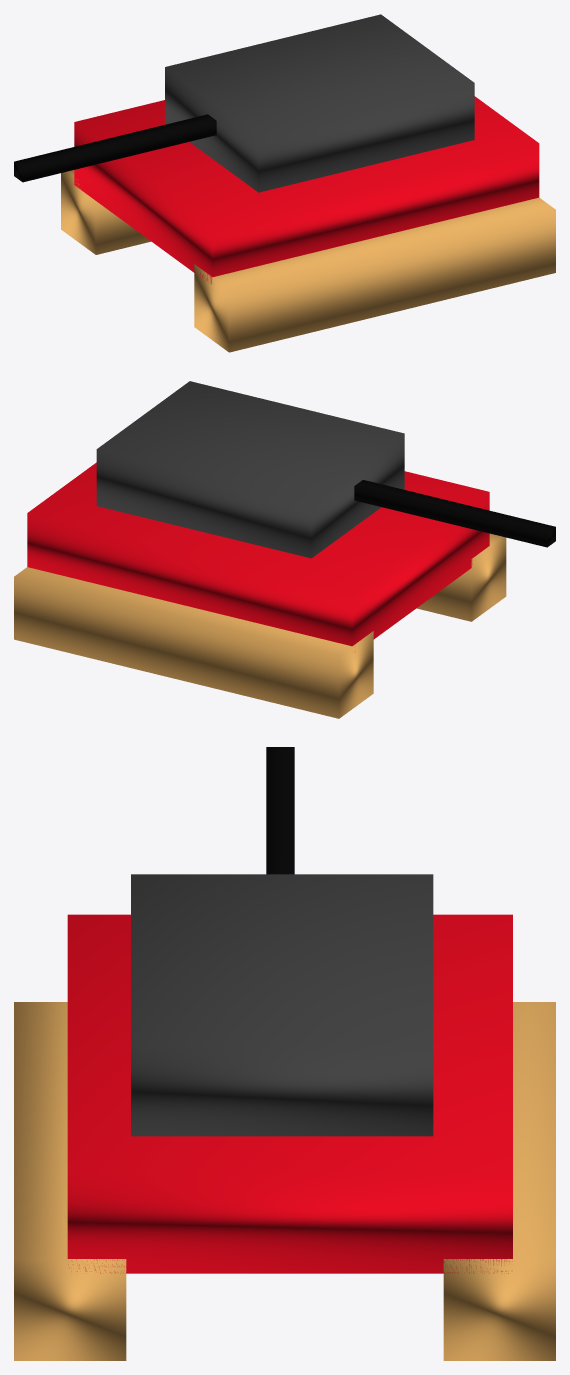
Rendered from redbigtank.glb.
3 views of the same model, one above another, from view 1: azimuth 30°, elevation 25°; view 2: azimuth 150°, elevation 25°; view 3: azimuth 270°, elevation 25° (orthographic). The views are drawn at different scales.
Visible parts, largest first — view 1: Cube.002, Cube.003, Cube, Cube.004, Cube.001; view 2: Cube.002, Cube.003, Cube.001, Cube.004, Cube; view 3: Cube.002, Cube.003, Cube, Cube.001, Cube.004.
Boxes of the visible parts, box(x1,y1,x2,y2) form: Cube.002: box(74, 96, 539, 284); Cube.003: box(165, 14, 474, 192); Cube: box(194, 197, 555, 352); Cube.004: box(14, 114, 216, 182); Cube.001: box(61, 170, 150, 254); Cube.002: box(27, 462, 489, 651); Cube.003: box(96, 381, 404, 558); Cube.001: box(14, 567, 373, 718); Cube.004: box(354, 480, 555, 547); Cube: box(416, 533, 506, 621); Cube.002: box(67, 914, 512, 1273); Cube.003: box(131, 874, 433, 1136); Cube: box(14, 1002, 126, 1360); Cube.001: box(443, 1002, 555, 1360); Cube.004: box(266, 747, 294, 874).
Bounding box in the file's own units: 24.95 × 9.14 × 15.96.
